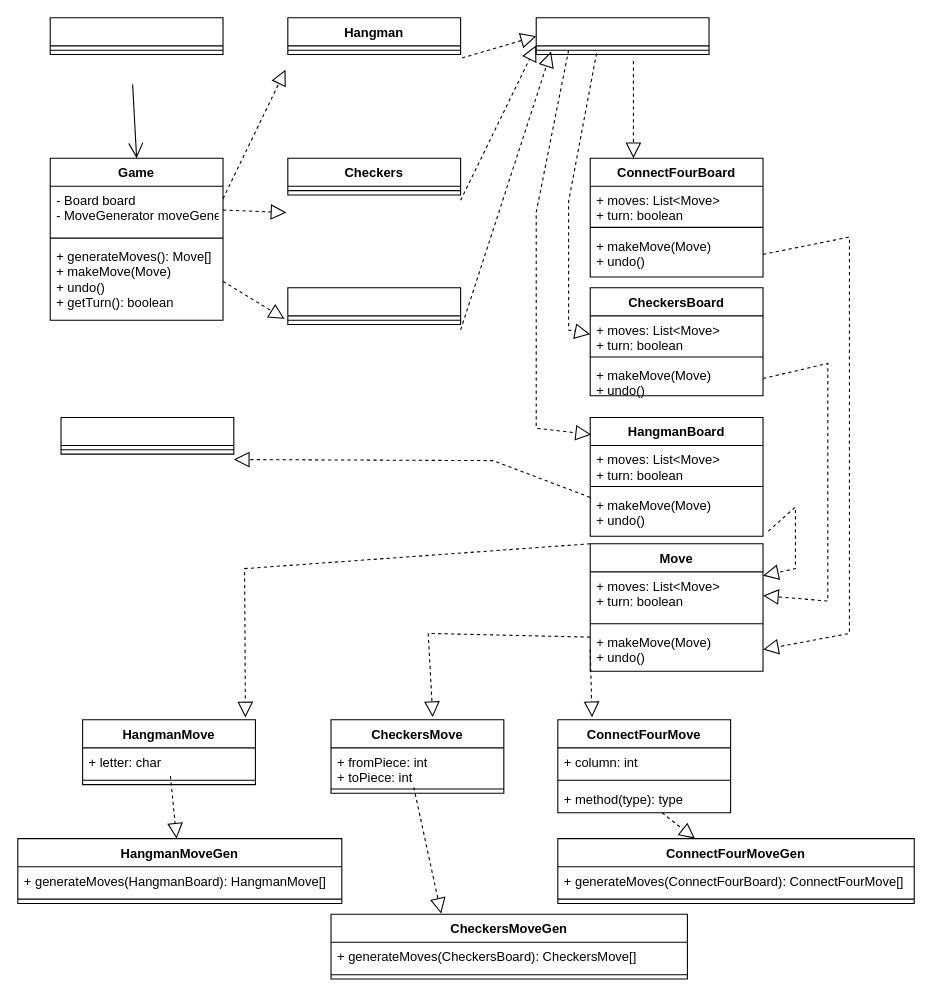
The diagram is 932 pixels wide and 997 high, and some of its shapes have lost their labels. Here are the shapes that lost their labels. From the top down, the centre of each, then its label:
the point at 136,36: Main
the point at 622,36: BoardSelect
the point at 374,306: ConnectFour
the point at 147,435: WordGen
